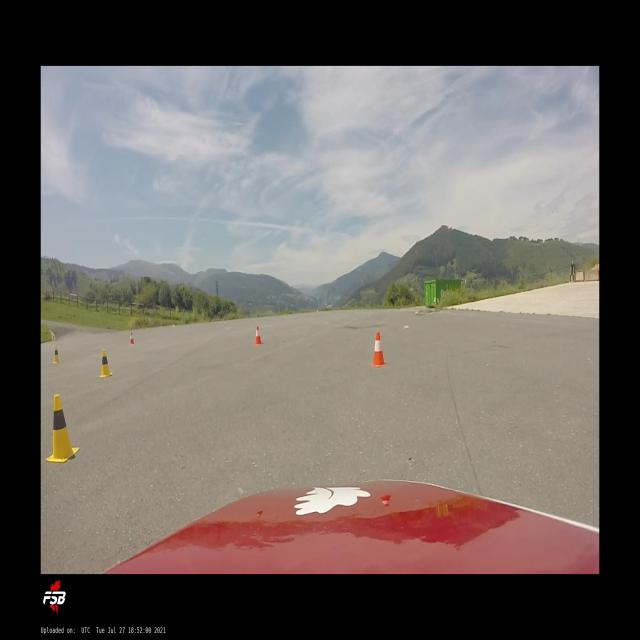orange_cone: (371, 332, 387, 366), (254, 326, 263, 346), (130, 332, 134, 345)
yellow_cone: (45, 394, 80, 464), (99, 349, 114, 378), (52, 346, 62, 364)
